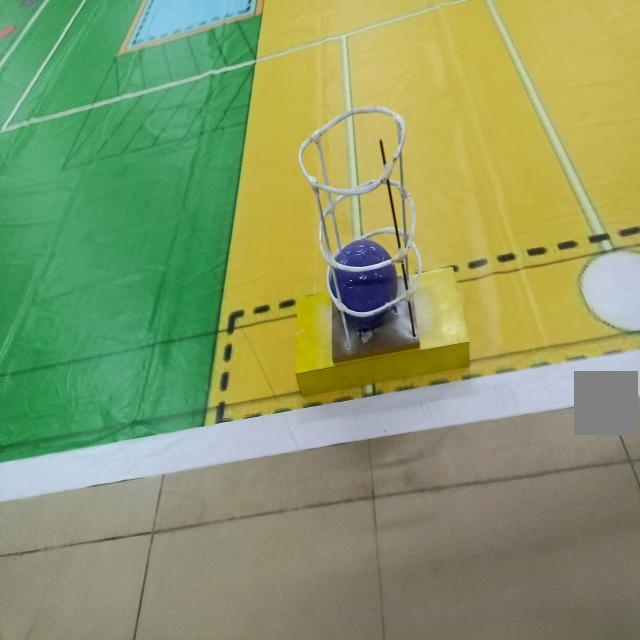purple_ball: (338, 241, 389, 325)
silo: (304, 106, 424, 363)
